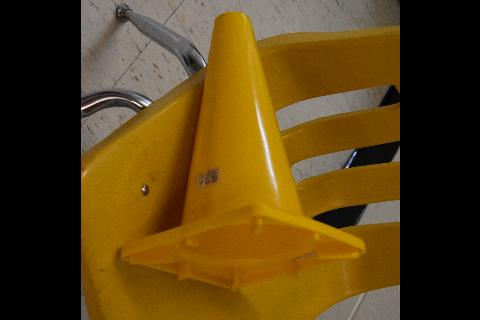cone: (120, 10, 366, 292)
